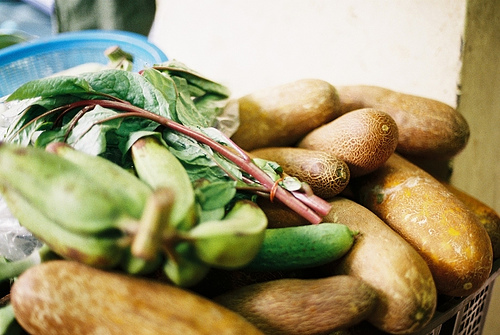cucumber: (261, 221, 363, 267)
